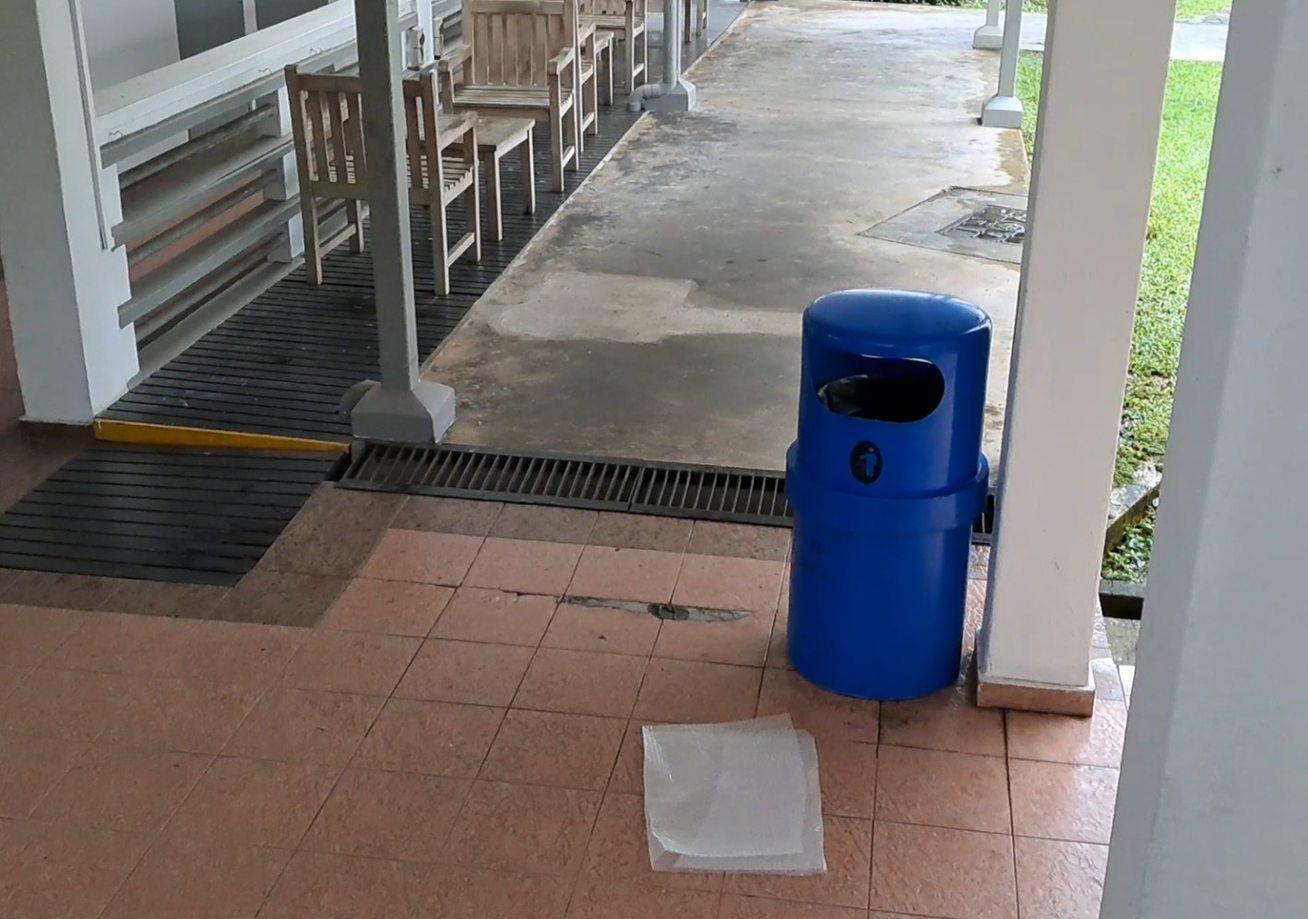bin_empty: (786, 289, 992, 699)
normal_waste: (642, 714, 824, 874)
